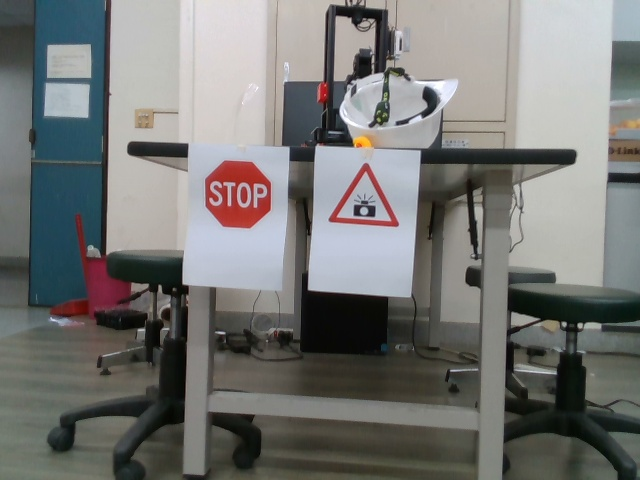camera: (327, 161, 400, 232)
helmet: (336, 66, 459, 152)
stop: (202, 157, 277, 232)
